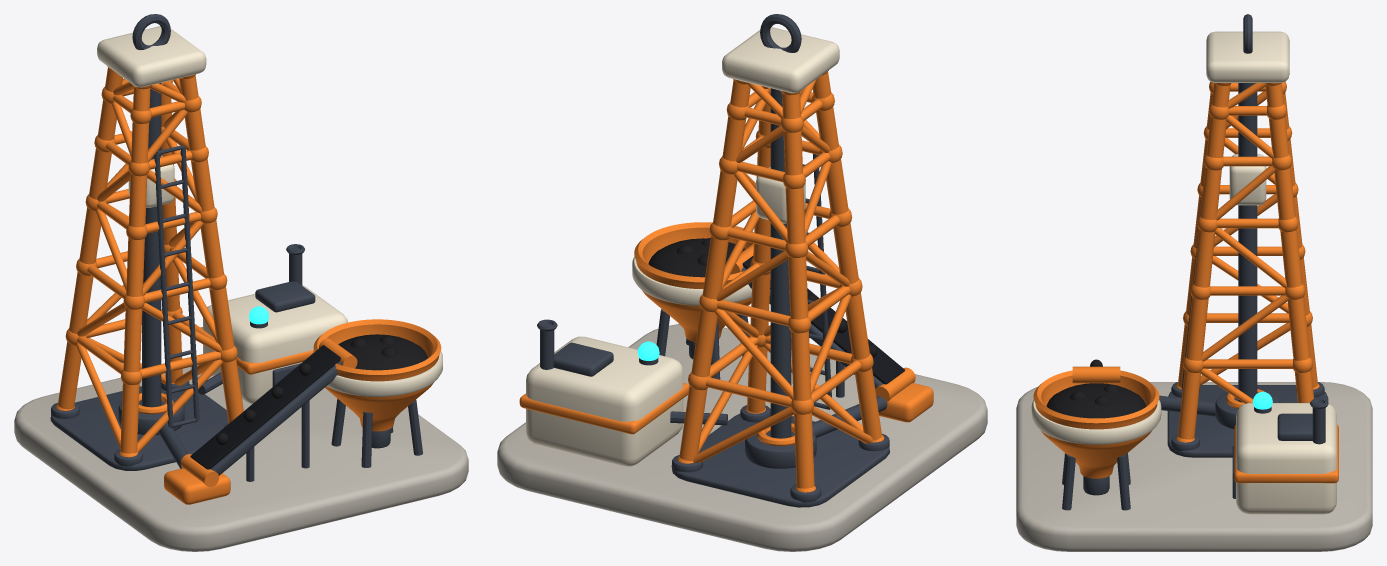
The model's file is carbon-drill-v1.glb.
The picture shows the model from 3 angles, left to right: view 1: azimuth 30°, elevation 25°; view 2: azimuth 150°, elevation 25°; view 3: azimuth 270°, elevation 25°; orthographic projection. The views are drawn at different scales.
Parts seen in each view (by area): view 1: CarbonDrill; view 2: CarbonDrill; view 3: CarbonDrill.
Part boxes in pixels (<box>): CarbonDrill: <box>14,14,468,551</box>; CarbonDrill: <box>497,14,987,551</box>; CarbonDrill: <box>1016,14,1372,551</box>.
Bounding box in the file's own units: 6 × 8.04 × 6.
